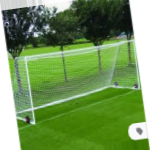goals: (13, 40, 141, 123)
